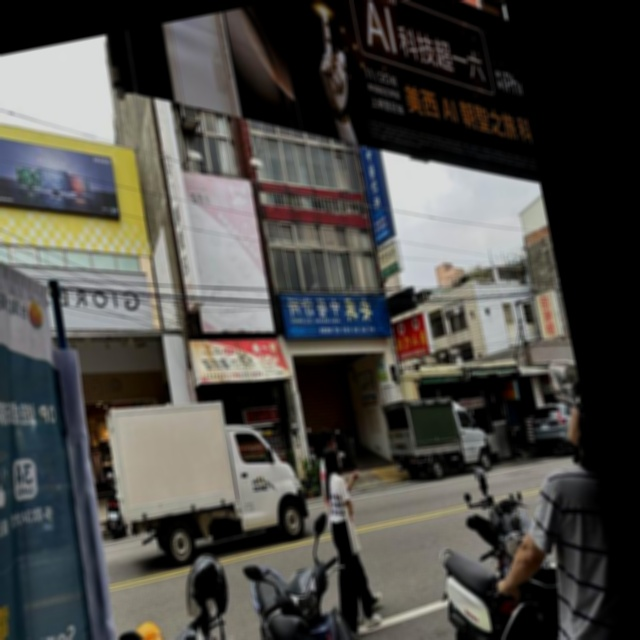Sin_Casco_Mascarrilla: (322, 445, 342, 474), (318, 427, 337, 452)
Sin_Chaleco: (323, 473, 350, 524)
